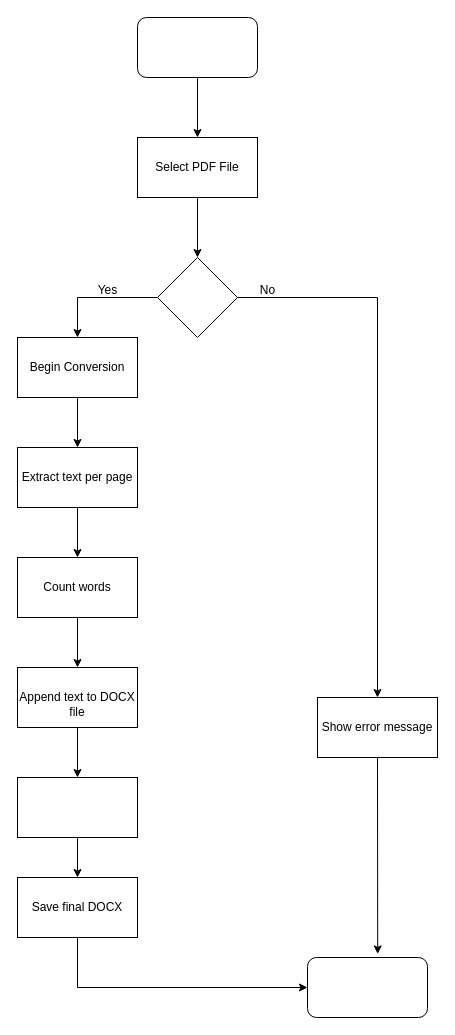
The diagram is 455 pixels wide and 1035 high, and some of its shapes have lost their labels. Here are the shapes that lost their labels. From the top down, the centre of each, then its label:
(197,47): Start Application
(197,297): Is file not corrupted?
(77,807): Update Progress
(367,987): End
